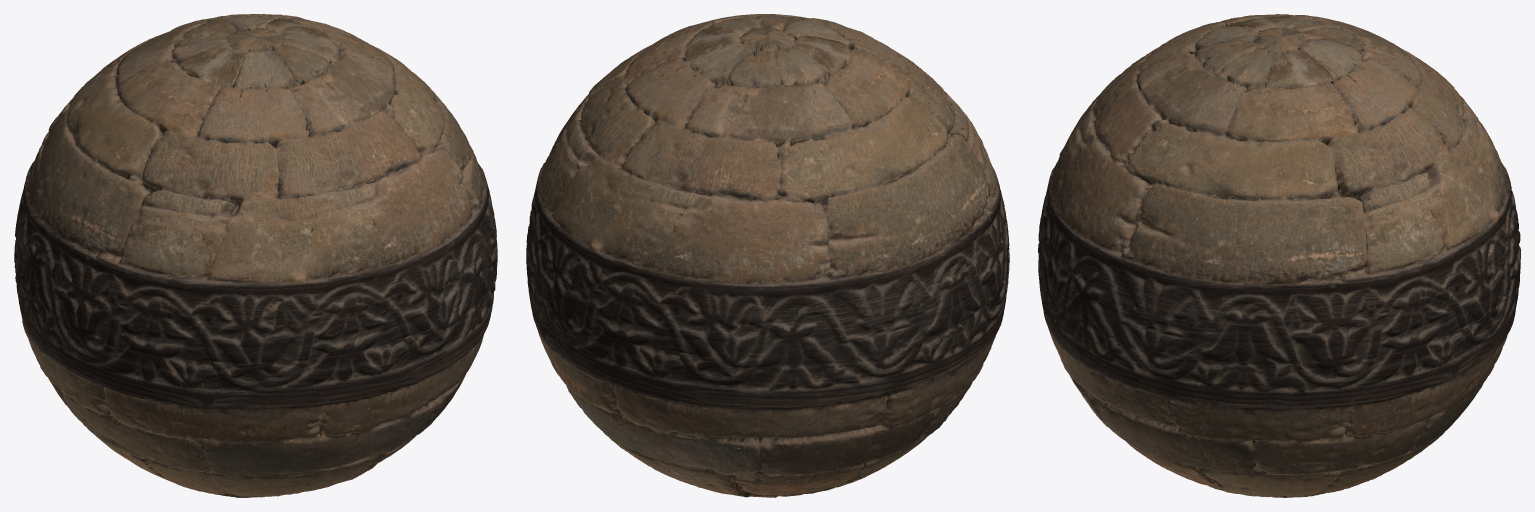
File: wood_inlaid_stone_wall_2k.gltf
The picture shows the model from 3 angles, left to right: view 1: azimuth 30°, elevation 25°; view 2: azimuth 150°, elevation 25°; view 3: azimuth 270°, elevation 25°; orthographic projection.
Parts seen in each view (by area): view 1: sphere_gltf; view 2: sphere_gltf; view 3: sphere_gltf.
Boxes of the visible parts, x1,y1,x2,y2 form: sphere_gltf: (14, 14, 497, 497); sphere_gltf: (526, 14, 1009, 497); sphere_gltf: (1038, 14, 1520, 497).
Size of the model in its own units: 1.35 by 1.36 by 1.35.
1 material, 1 textured.
